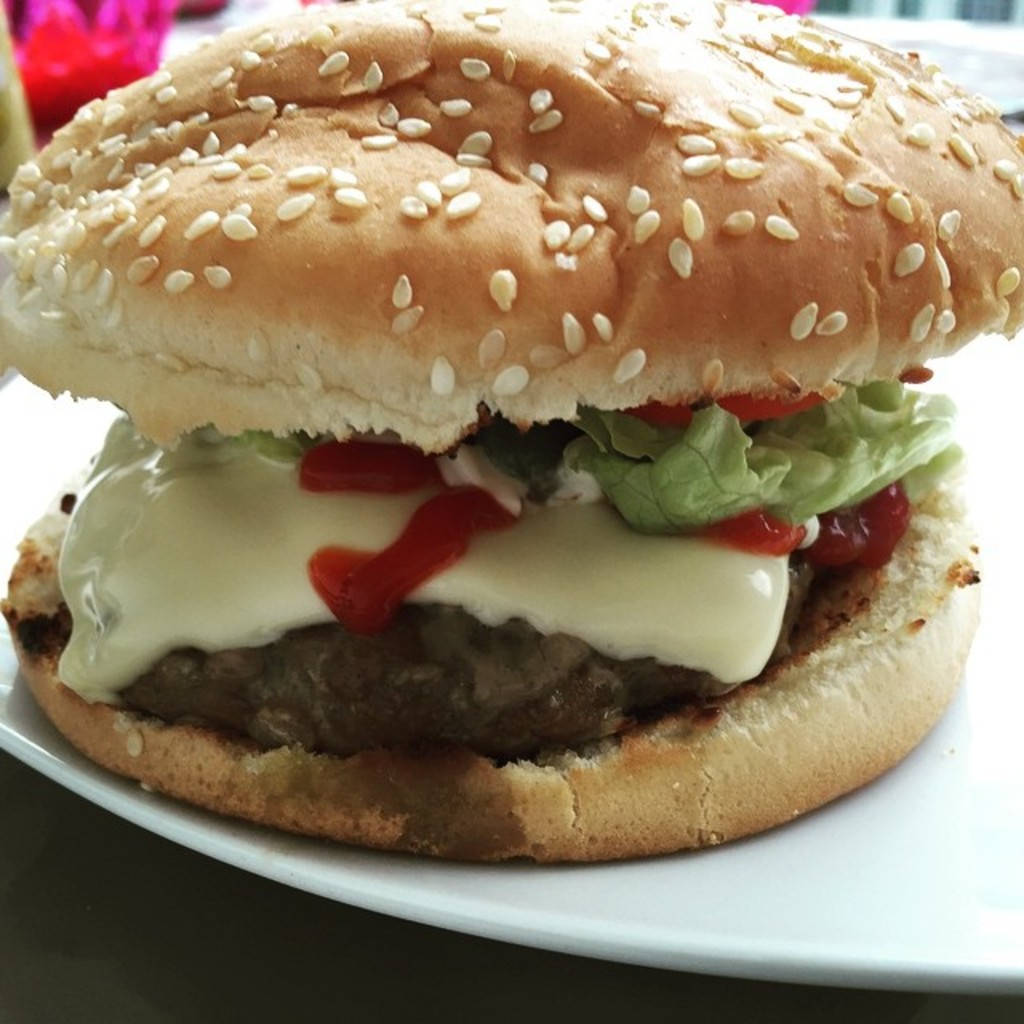Hamburger: (0, 0, 1022, 862)
